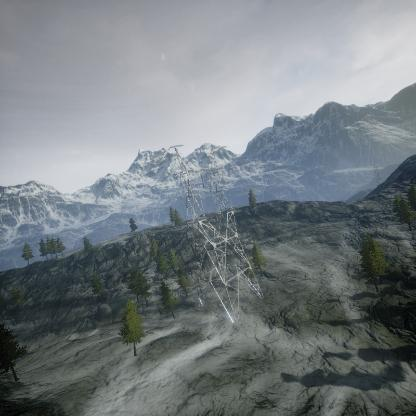tower: (161, 143, 264, 333)
